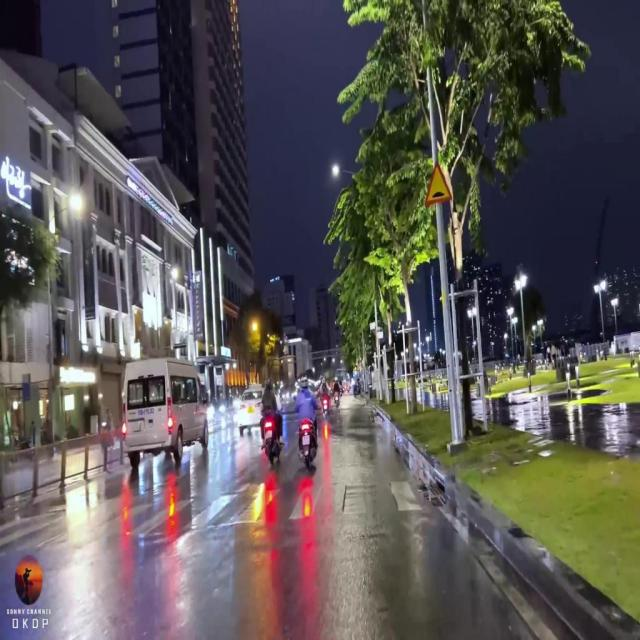duong_co_song_map_mo_nhan_tao: (424, 160, 453, 207)
